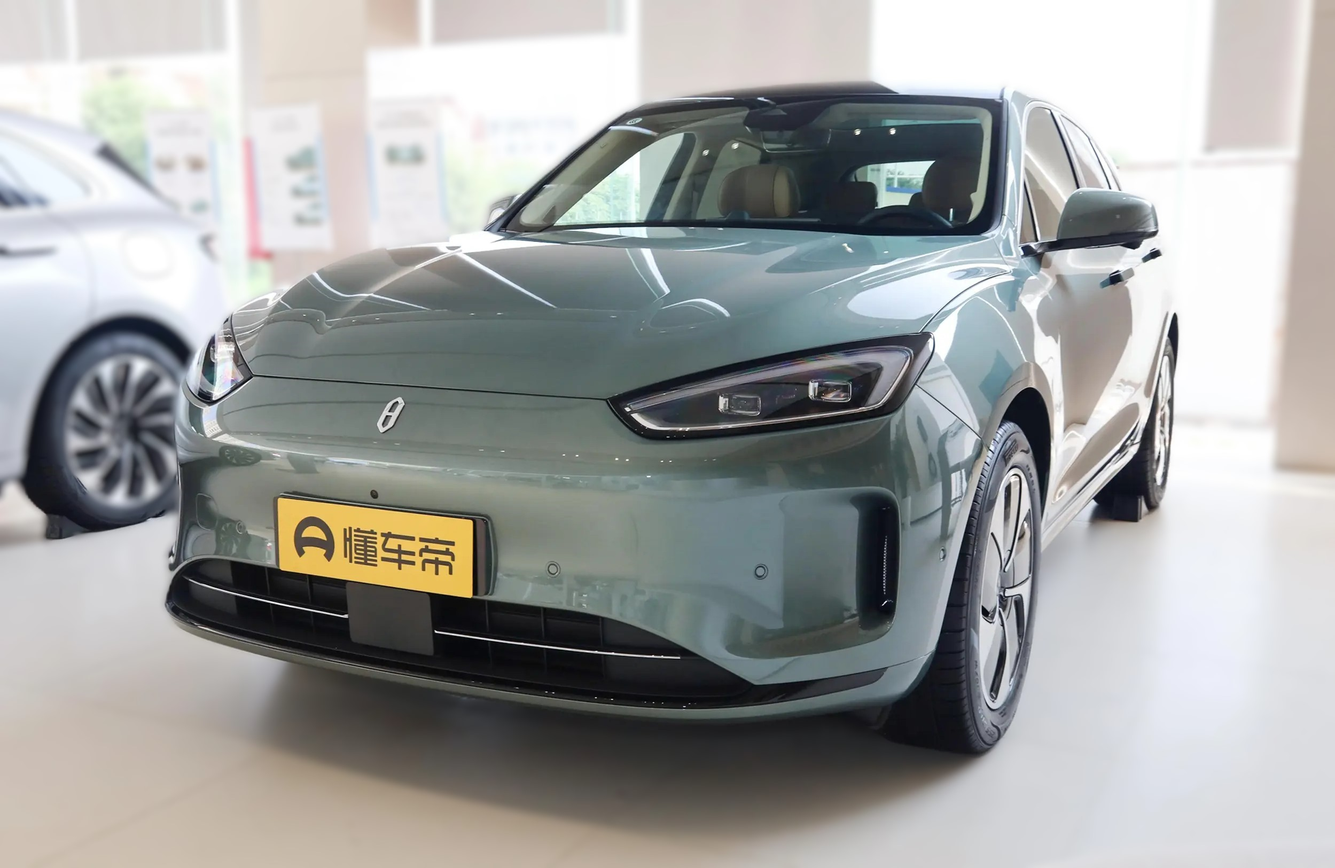AITO: (377, 397, 405, 432)
